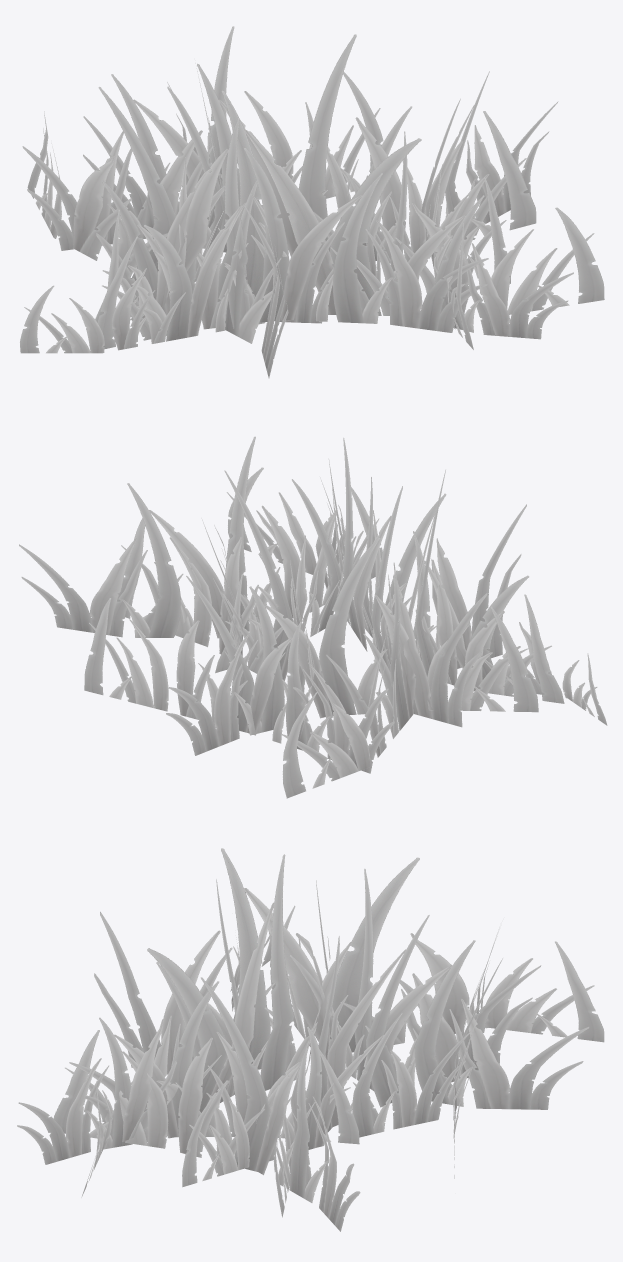
Rendered from SM_Grass_Campsite_02.fbx.
3 views of the same model, one above another, from view 1: azimuth 30°, elevation 25°; view 2: azimuth 150°, elevation 25°; view 3: azimuth 270°, elevation 25° (orthographic). The views are drawn at different scales.
Visible parts, largest first — view 1: SM_Grass_Campsite_02_LOD0; view 2: SM_Grass_Campsite_02_LOD0; view 3: SM_Grass_Campsite_02_LOD0.
Part boxes in pixels (x1,y1,x2,y2): SM_Grass_Campsite_02_LOD0: [20, 26, 604, 378]; SM_Grass_Campsite_02_LOD0: [19, 436, 607, 798]; SM_Grass_Campsite_02_LOD0: [17, 848, 604, 1231].
Size of what is drawn, in the model's own units: 1.27 by 0.5071 by 1.1.
